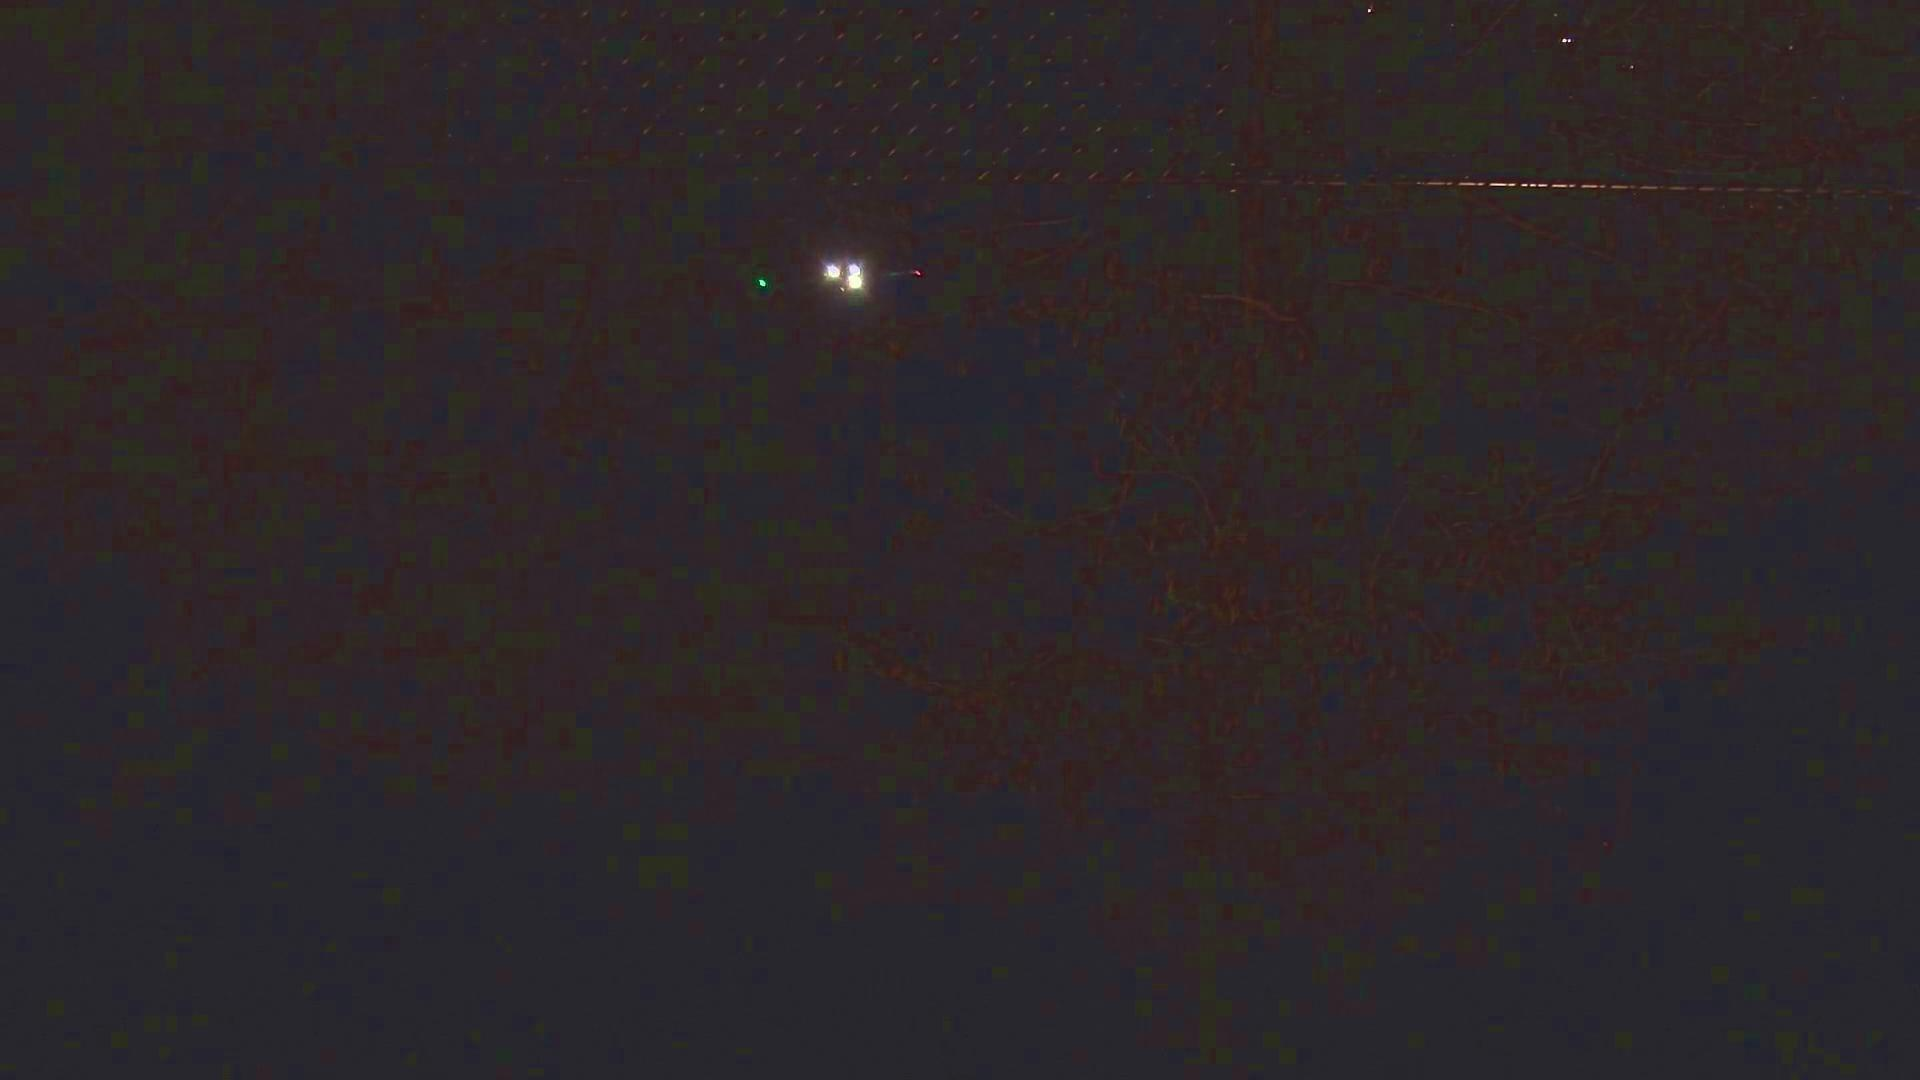Plane: (750, 247, 957, 301)
